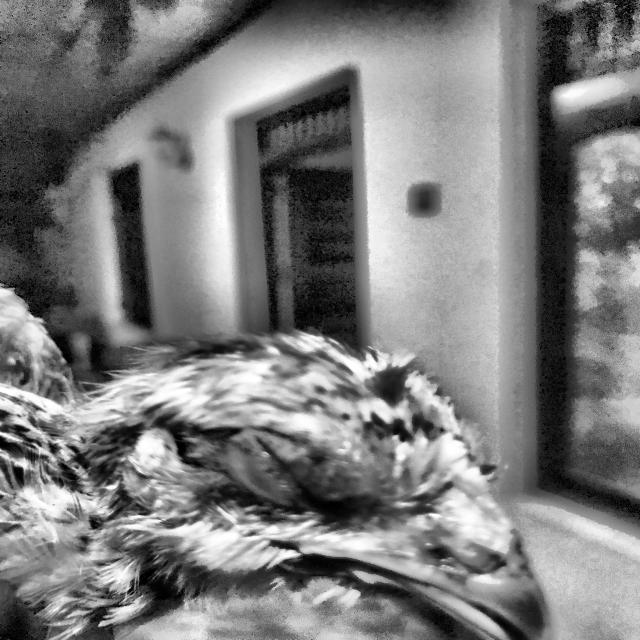Coryza: (119, 337, 544, 640)
